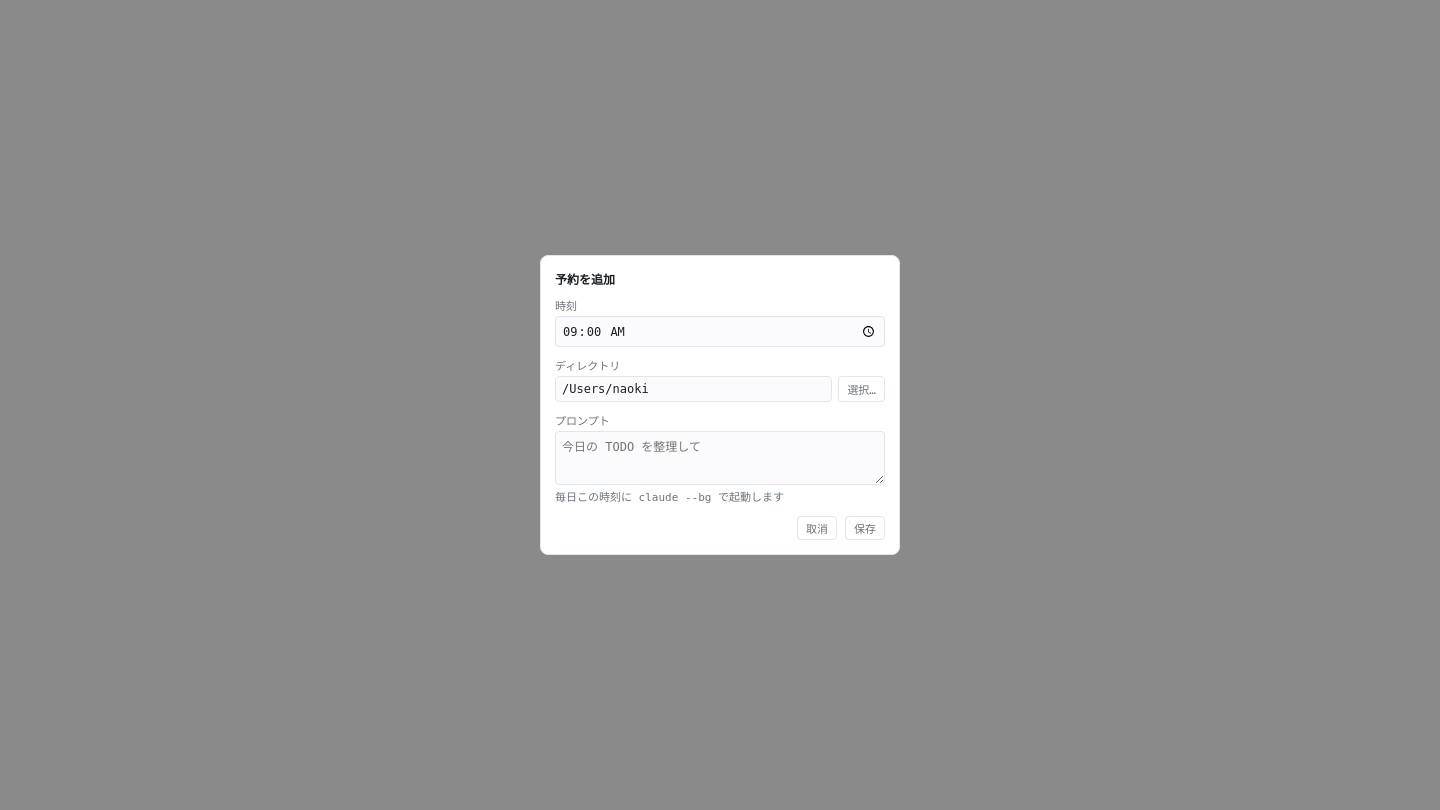
Scenario: ScheduleDialog › ディレクトリが空なら保存せずエラーを出す
Clear the field labelled "ディレクトリ" at (694, 389), box [555,376,832,402]
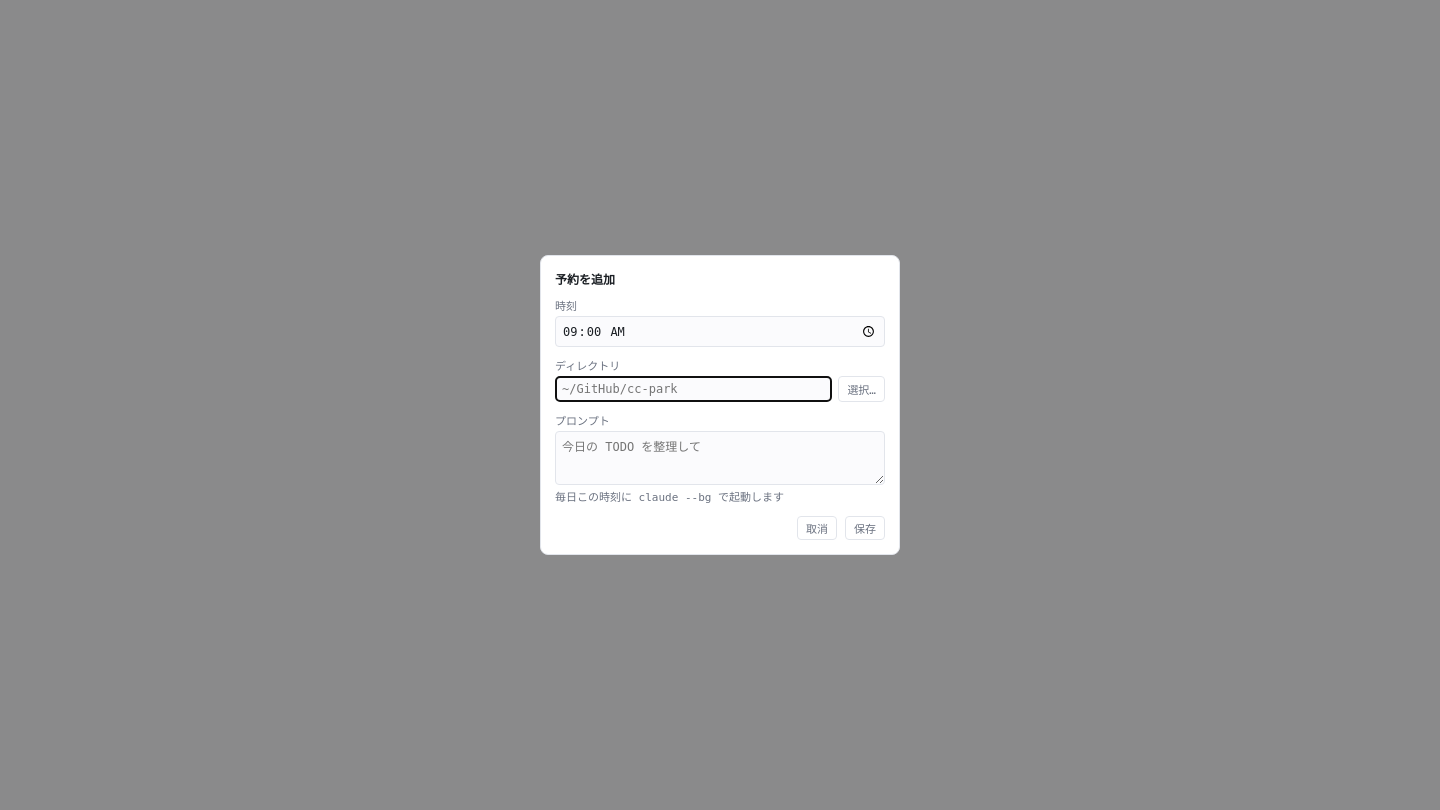
Type "おはよう" into the text box labelled "プロンプト" at (720, 458), box [555,431,885,485]
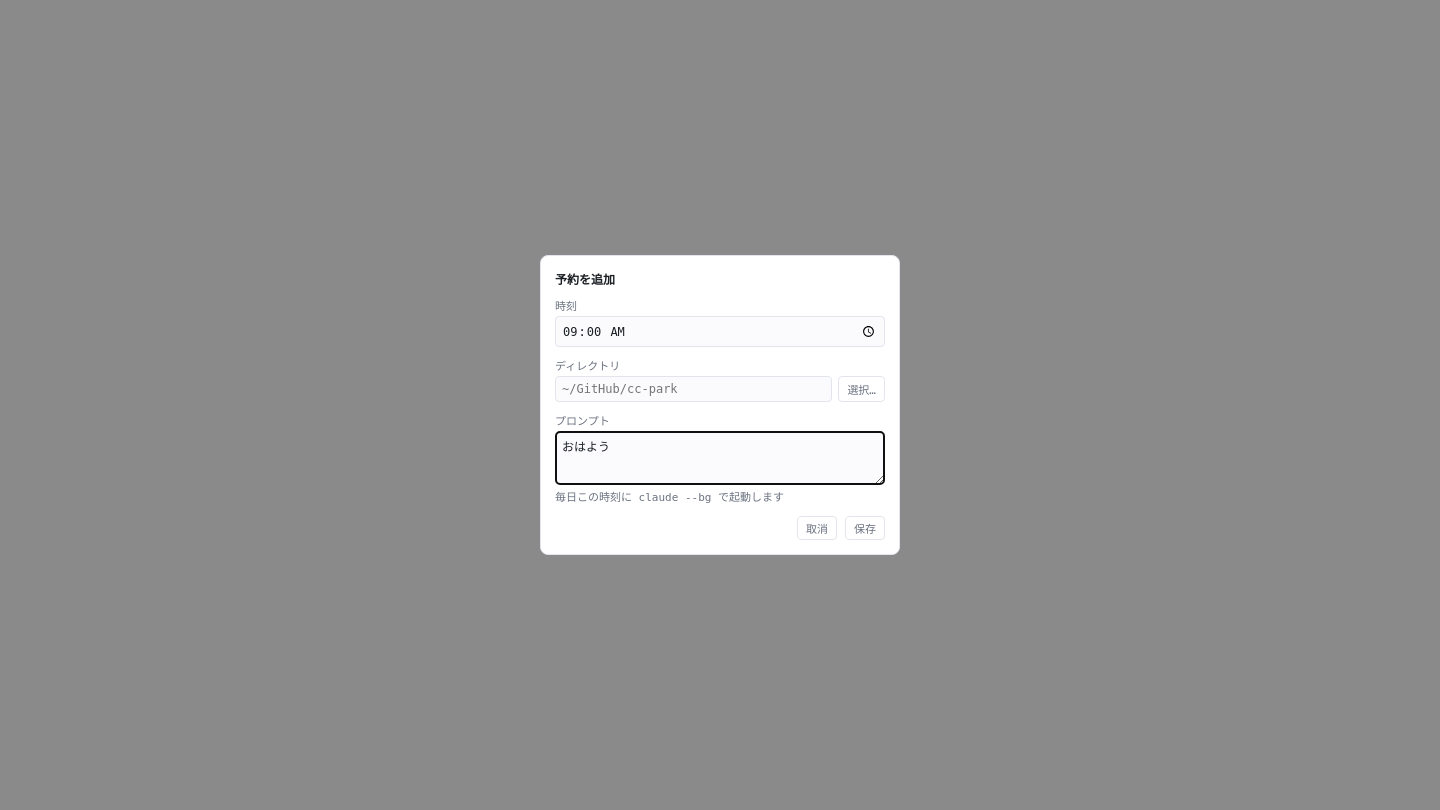
Click the button "保存" at (865, 528), box [845,516,885,540]
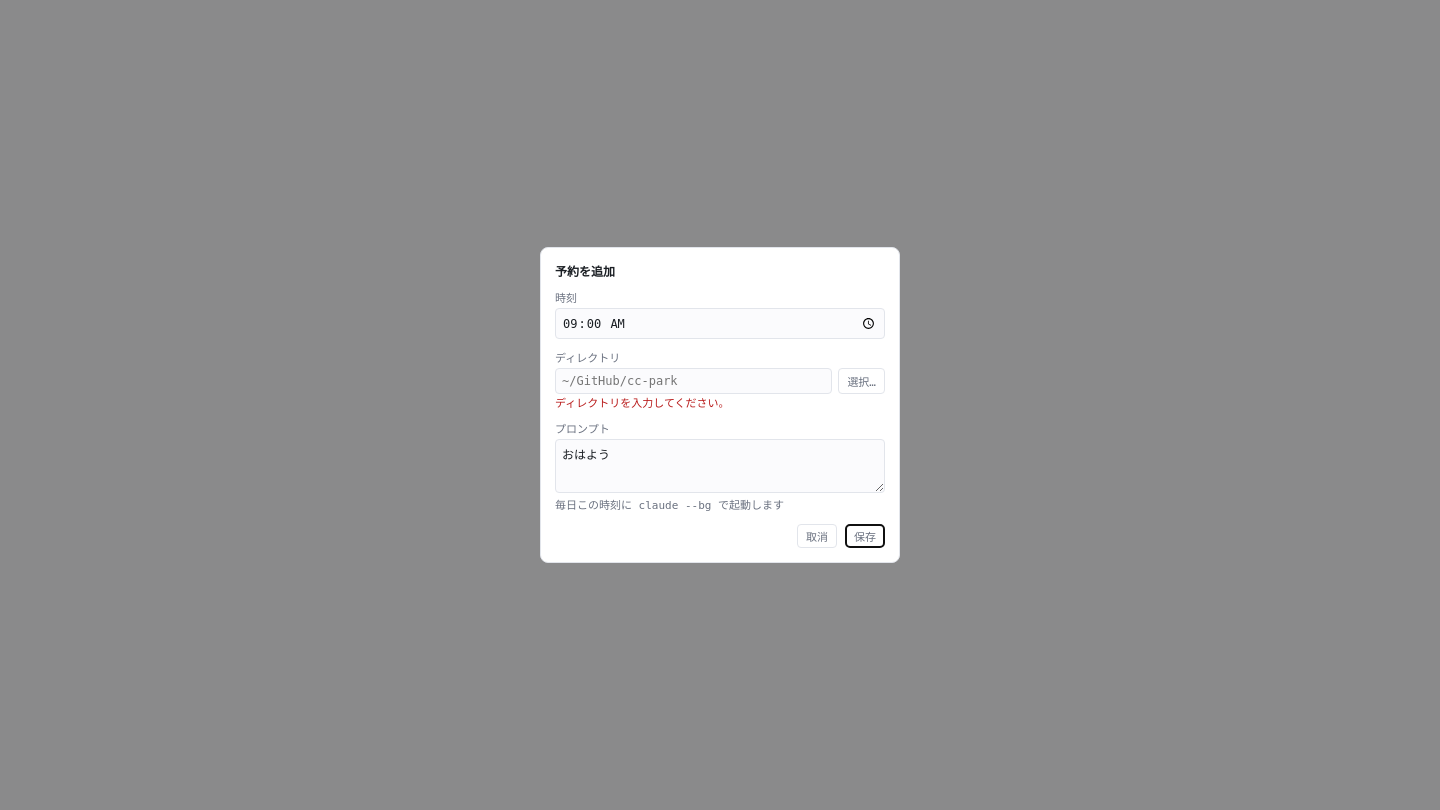
Expected: the text "ディレクトリを入力してください。" is shown, [555,397,730,410]
